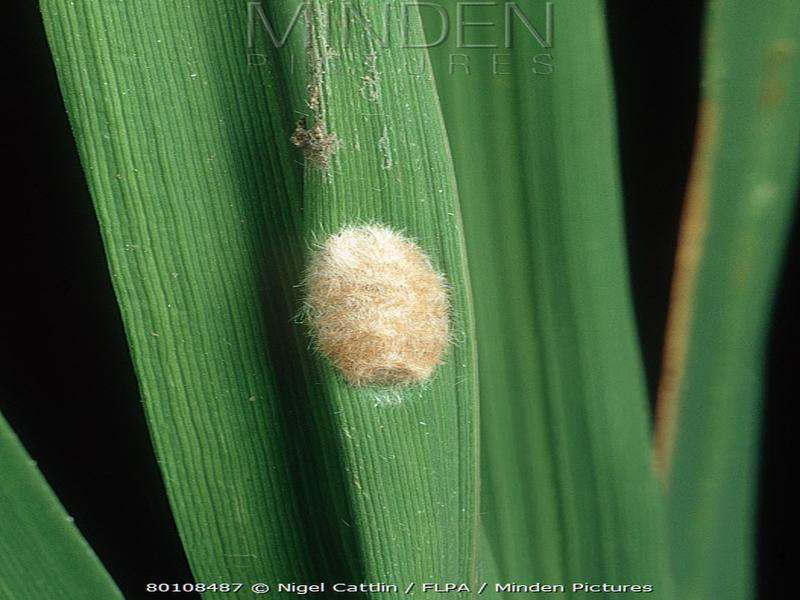Rice_skipper: (271, 217, 467, 412)
